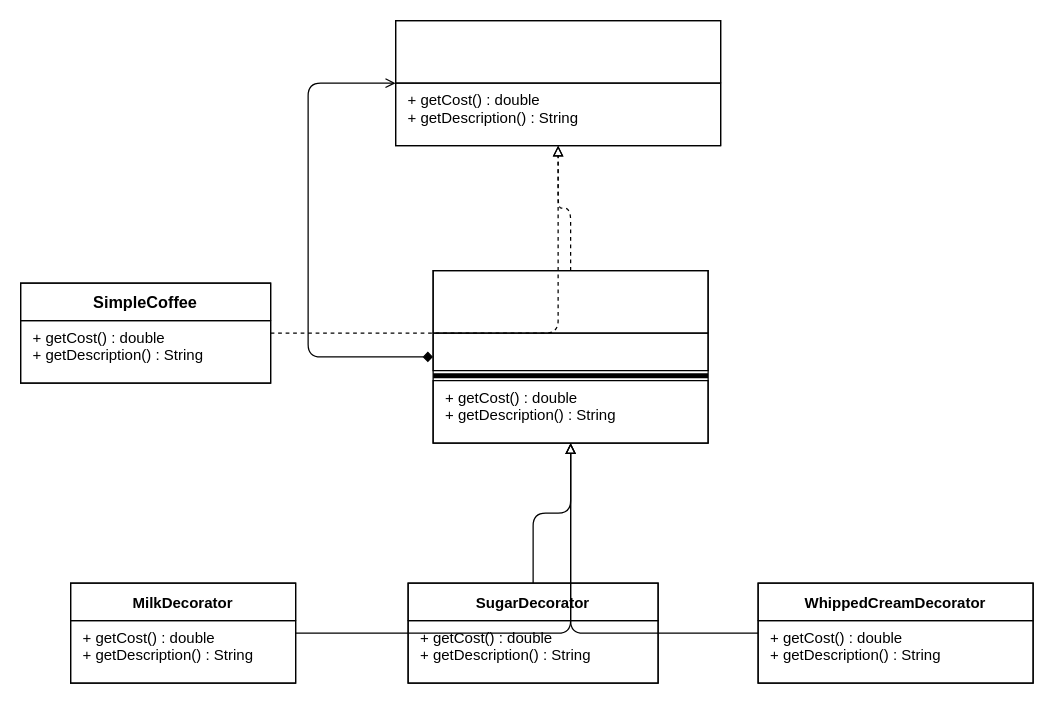
Image size: 1054x704. Some labels were removed from this diagram. The box of each missing label's shape, as (x1, y1, x2, y2) in pixels:
# coffee : Coffee: (432, 332, 708, 371)
«abstract» BaseDecorator: (432, 269, 708, 333)
«interface» Coffee: (394, 19, 721, 83)
